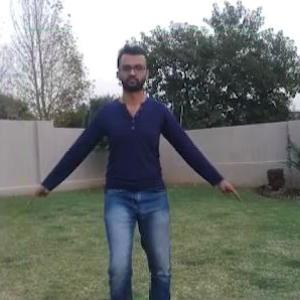land: (6, 35, 264, 299)
